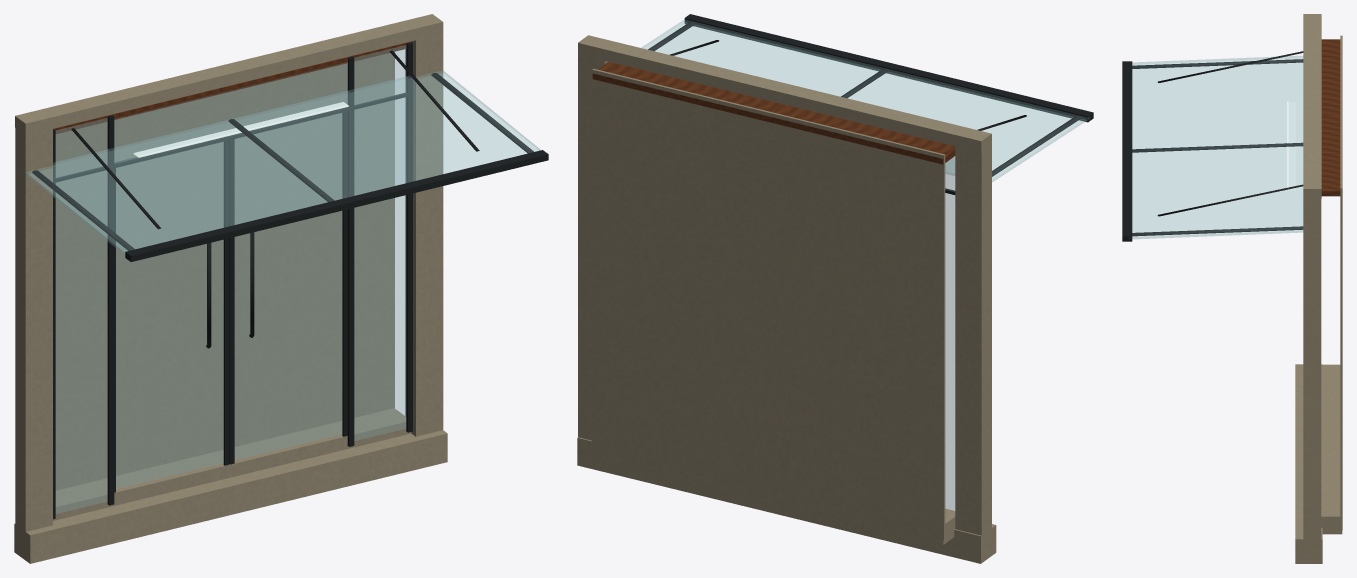
The model's file is modern-lobby-bay.lod1.glb.
3 views of the same model, side by side, from view 1: azimuth 30°, elevation 25°; view 2: azimuth 150°, elevation 25°; view 3: azimuth 270°, elevation 25° (orthographic). The views are drawn at different scales.
Visible parts, largest first — view 1: modern-lobby-bay; view 2: modern-lobby-bay; view 3: modern-lobby-bay.
Boxes of the visible parts, x1,y1,x2,y2 form: modern-lobby-bay: [14, 14, 548, 563]; modern-lobby-bay: [577, 14, 1093, 563]; modern-lobby-bay: [1122, 14, 1342, 563].
Bounding box in the file's own units: 3.2 × 3.2 × 1.7.
3 materials, 1 textured.
